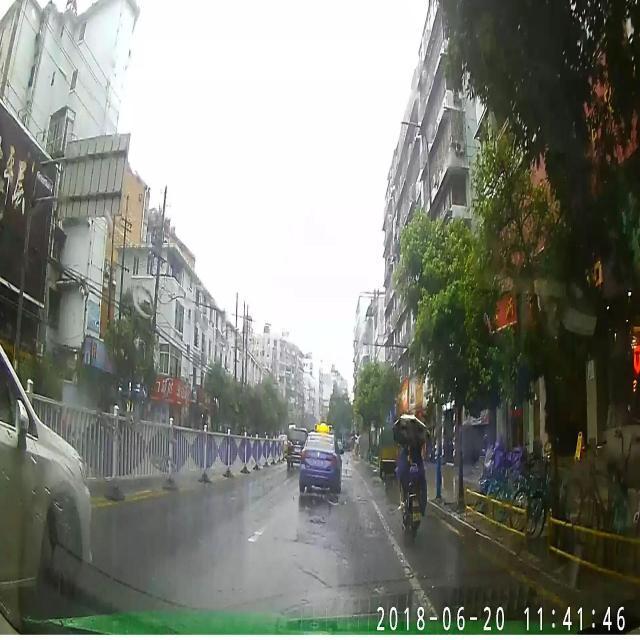car: (0, 337, 89, 611), (297, 423, 342, 499), (284, 423, 308, 468)
